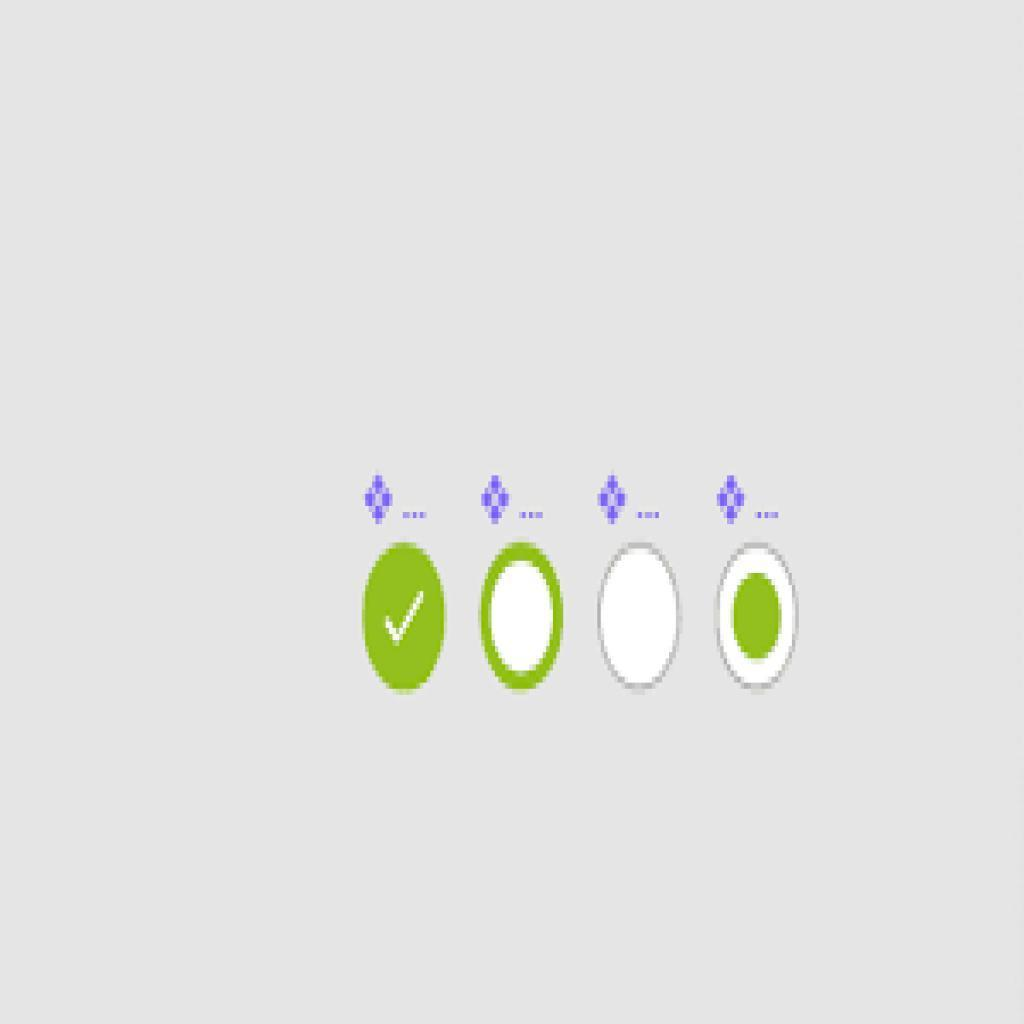checkbox: (359, 541, 452, 696)
radio: (596, 541, 687, 699), (478, 539, 568, 696), (711, 540, 802, 689)
